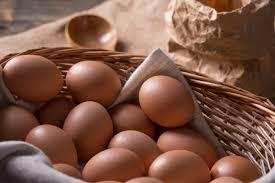egg: (1, 51, 64, 108), (138, 72, 201, 126), (64, 56, 124, 106), (64, 100, 114, 160), (25, 121, 82, 167), (80, 146, 146, 183), (156, 128, 218, 166), (148, 148, 214, 182), (1, 102, 42, 144), (108, 129, 160, 162)
